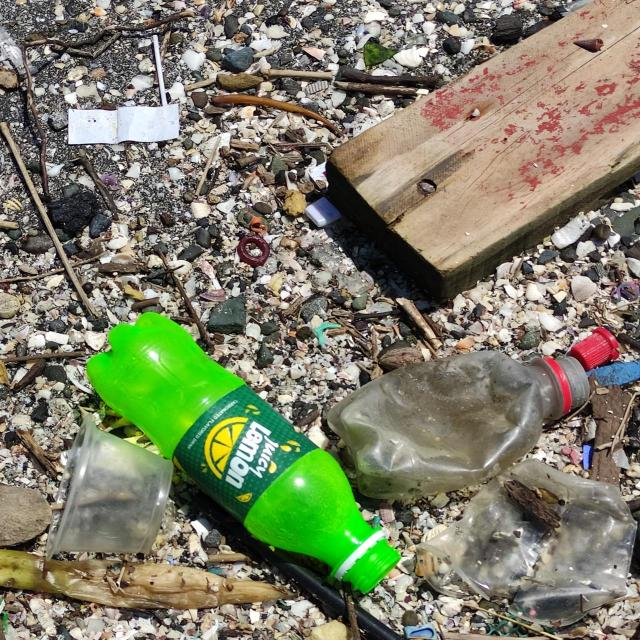plastic_waste: (86, 312, 404, 597), (326, 354, 592, 503), (44, 414, 176, 565), (571, 328, 621, 373), (154, 35, 170, 109)
wood_waste: (324, 3, 637, 303)
